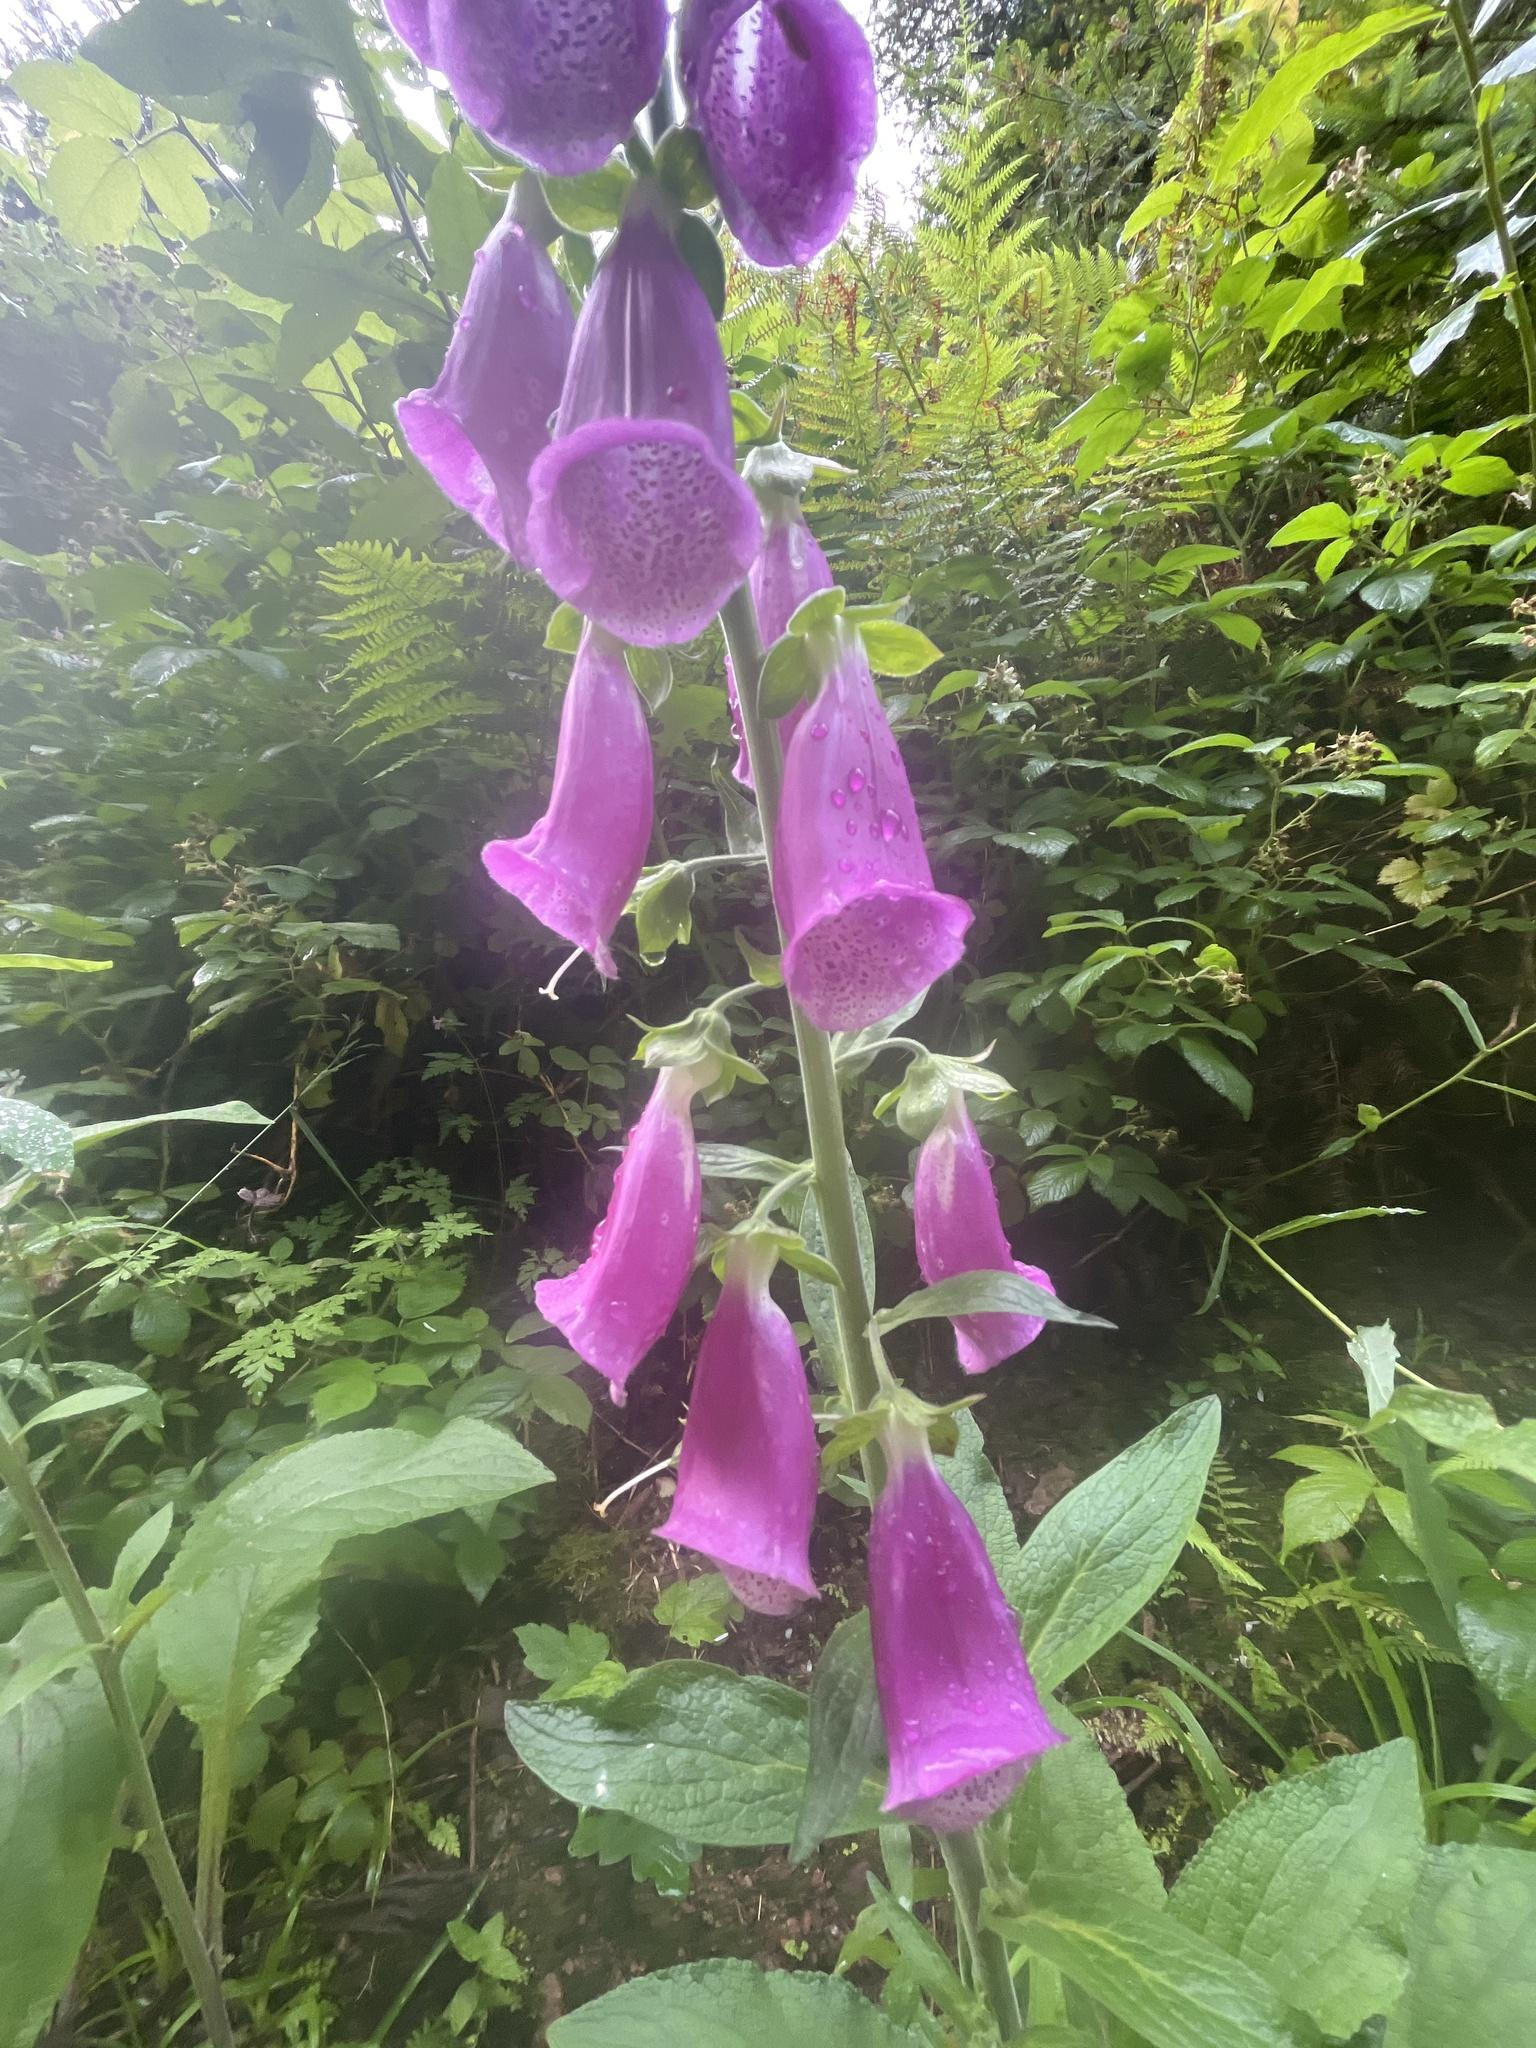Digitalis L: (337, 0, 1202, 2048)
